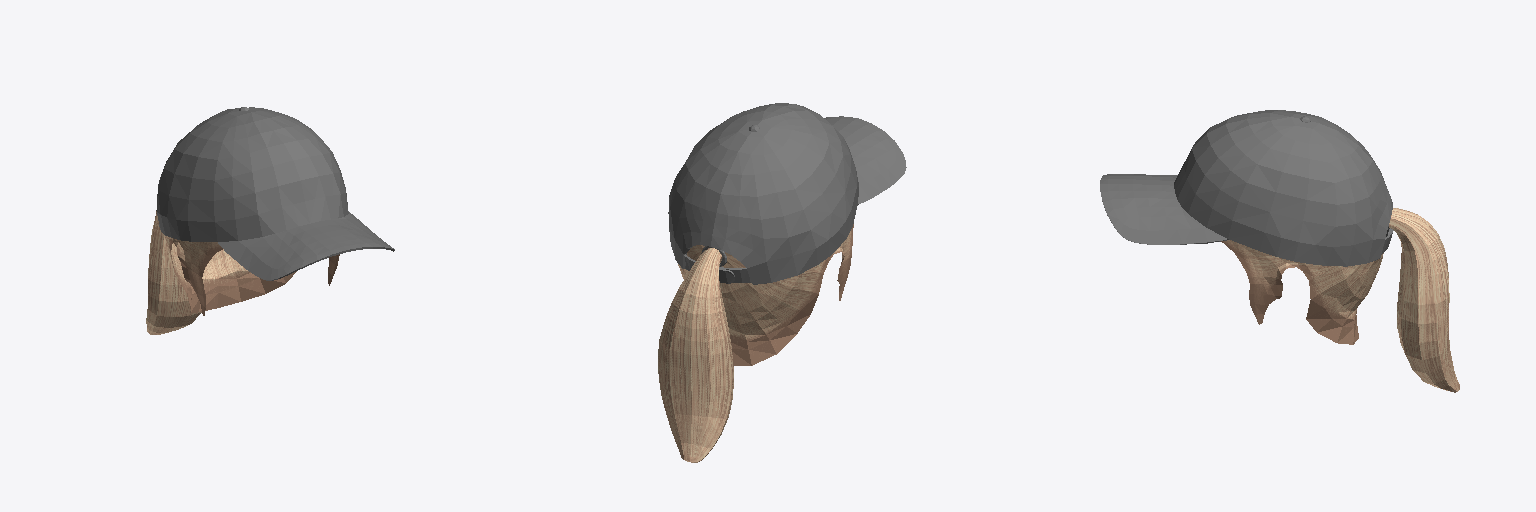
3 renders of one model, left to right at view 1: azimuth 30°, elevation 25°; view 2: azimuth 150°, elevation 25°; view 3: azimuth 270°, elevation 25°, orthographic.
Visible parts, largest first — view 1: BaseballHat_Hair_001; view 2: BaseballHat_Hair_001; view 3: BaseballHat_Hair_001.
Boxes of the visible parts, x1=… form: BaseballHat_Hair_001: x1=146, y1=107, x2=394, y2=334; BaseballHat_Hair_001: x1=658, y1=103, x2=906, y2=462; BaseballHat_Hair_001: x1=1100, y1=110, x2=1459, y2=392.
Size of the model in its own units: 16.51 by 27.73 by 32.46.
3 materials, 1 textured.